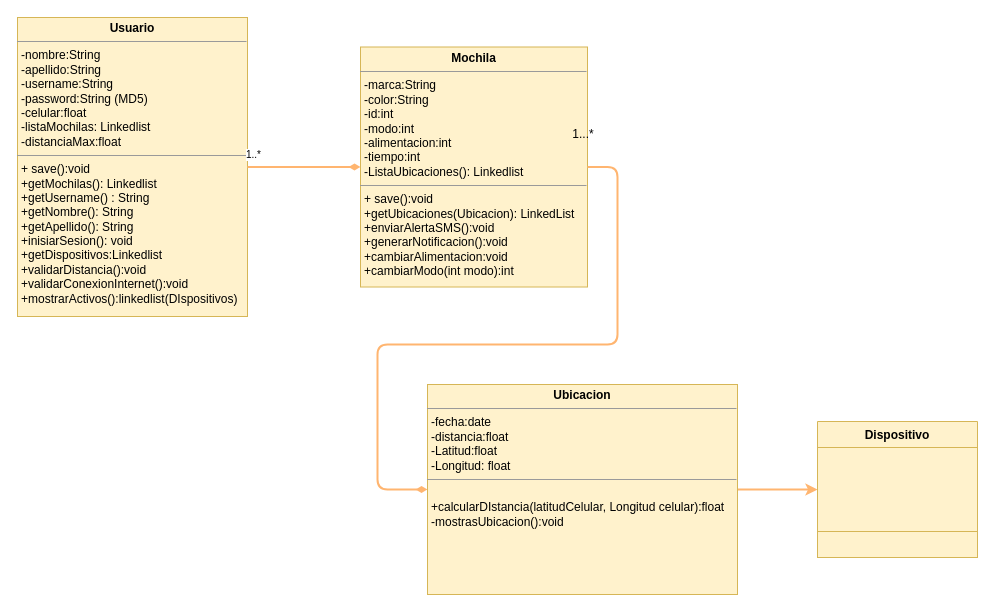
Some shapes in this 995 by 612 pixel diagram are drawn without their labels. Here are the shapes that lost their labels. From the top down, the centre of each, then its label:
At point (897, 489): "-id:String -ubicacion:Ubicacion -fecha:String -estado:int -bateria: int".
At point (897, 544): "+enviarUbicacion():void".
